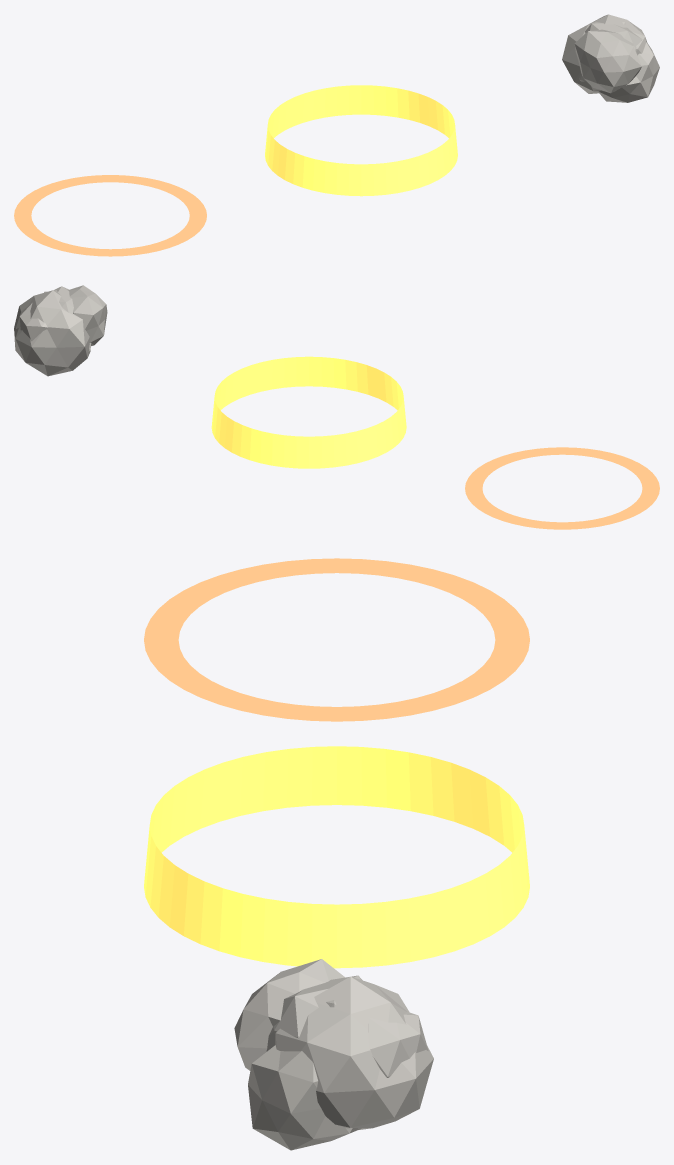
3 renders of one model, top to bottom at view 1: azimuth 30°, elevation 25°; view 2: azimuth 150°, elevation 25°; view 3: azimuth 270°, elevation 25°, orthographic. The views are drawn at different scales.
Visible parts, largest first — view 1: heat-ring-geo, dust-puff-geo, impact-ring-geo; view 2: heat-ring-geo, dust-puff-geo, impact-ring-geo; view 3: heat-ring-geo, dust-puff-geo, impact-ring-geo.
Boxes of the visible parts, bbox=[...] form: heat-ring-geo: bbox=[265, 85, 457, 196]; dust-puff-geo: bbox=[562, 14, 659, 102]; impact-ring-geo: bbox=[14, 175, 206, 256]; heat-ring-geo: bbox=[211, 356, 406, 468]; dust-puff-geo: bbox=[14, 285, 107, 376]; impact-ring-geo: bbox=[465, 447, 659, 529]; heat-ring-geo: bbox=[144, 746, 529, 968]; dust-puff-geo: bbox=[234, 959, 433, 1150]; impact-ring-geo: bbox=[144, 558, 529, 721].
Size of the model in its own units: 7.43 by 0.8837 by 2.
